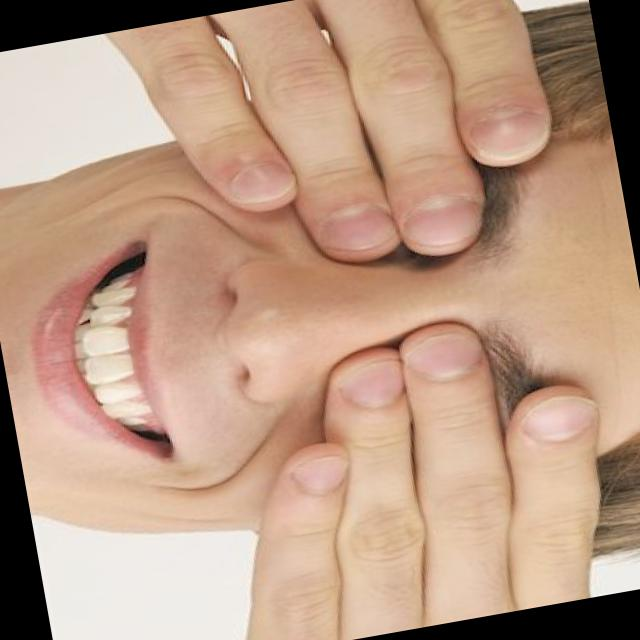Nail: (401, 195, 480, 248), (468, 107, 543, 161), (403, 333, 482, 382), (322, 202, 392, 252), (523, 395, 595, 441), (345, 358, 403, 408), (227, 161, 290, 205), (288, 454, 344, 493)
